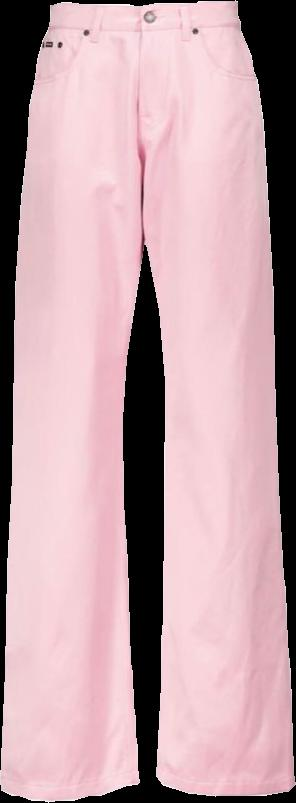Hemline: (153, 769, 295, 800), (0, 774, 142, 802)
Pantleg: (136, 2, 294, 794), (0, 2, 143, 799)
Waistline: (46, 15, 242, 39), (50, 0, 237, 11)
